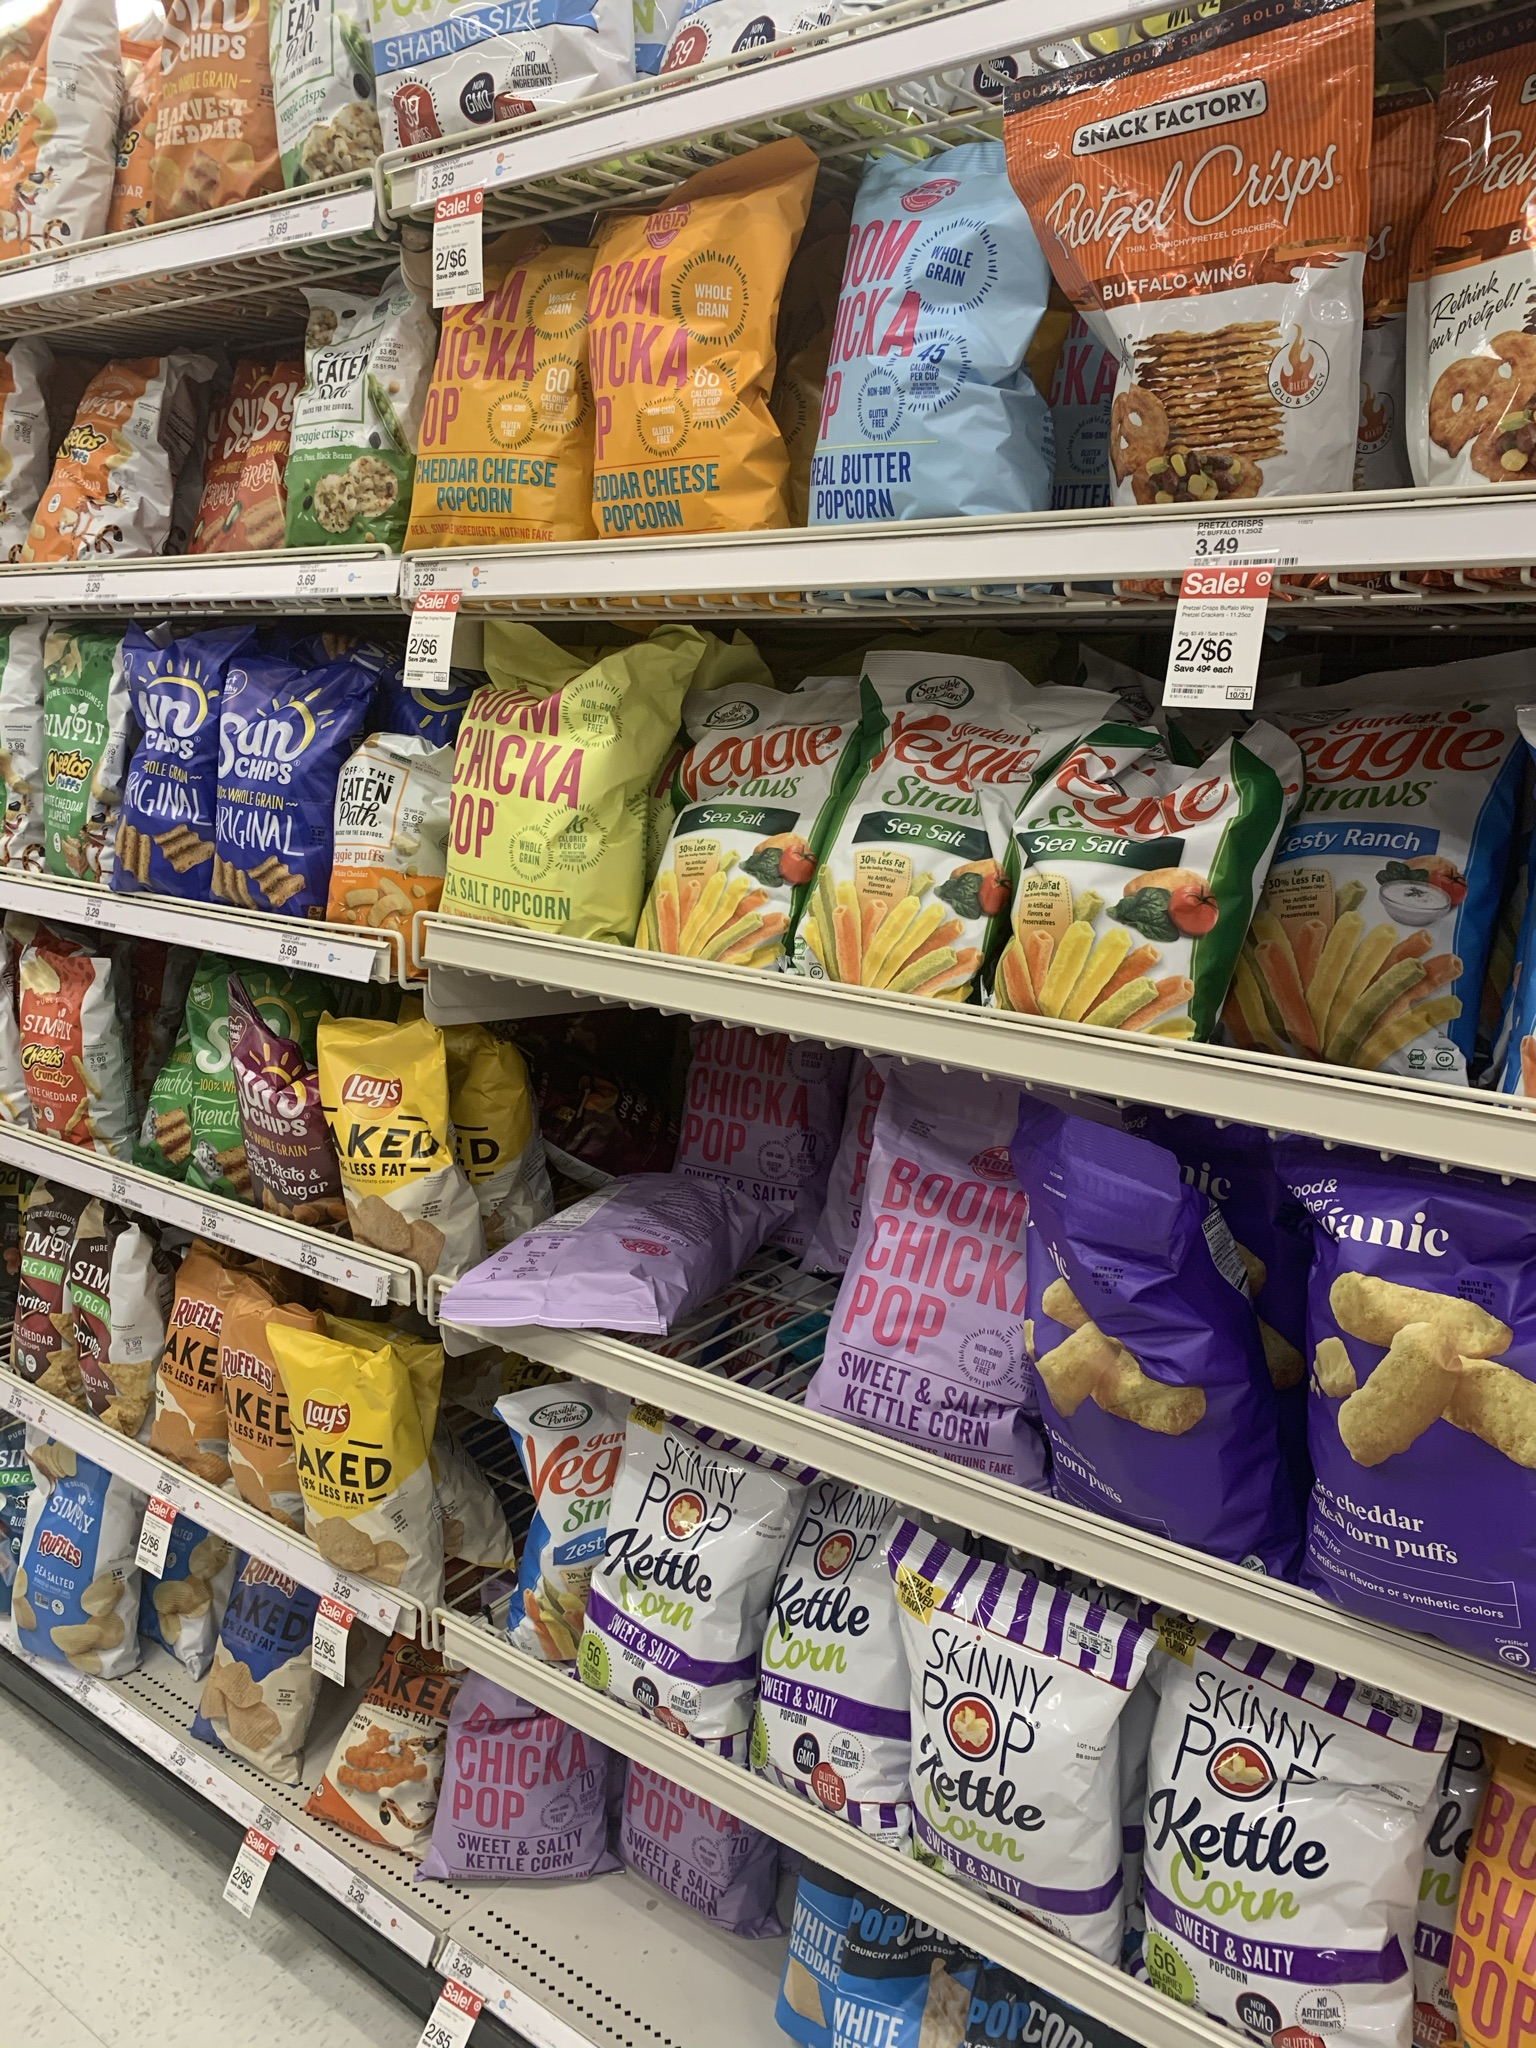chip: (216, 668, 337, 927), (207, 1534, 311, 1788), (23, 1440, 126, 1680), (19, 951, 126, 1166), (232, 1005, 326, 1240), (127, 642, 205, 892), (181, 977, 266, 1200), (35, 648, 105, 889)
